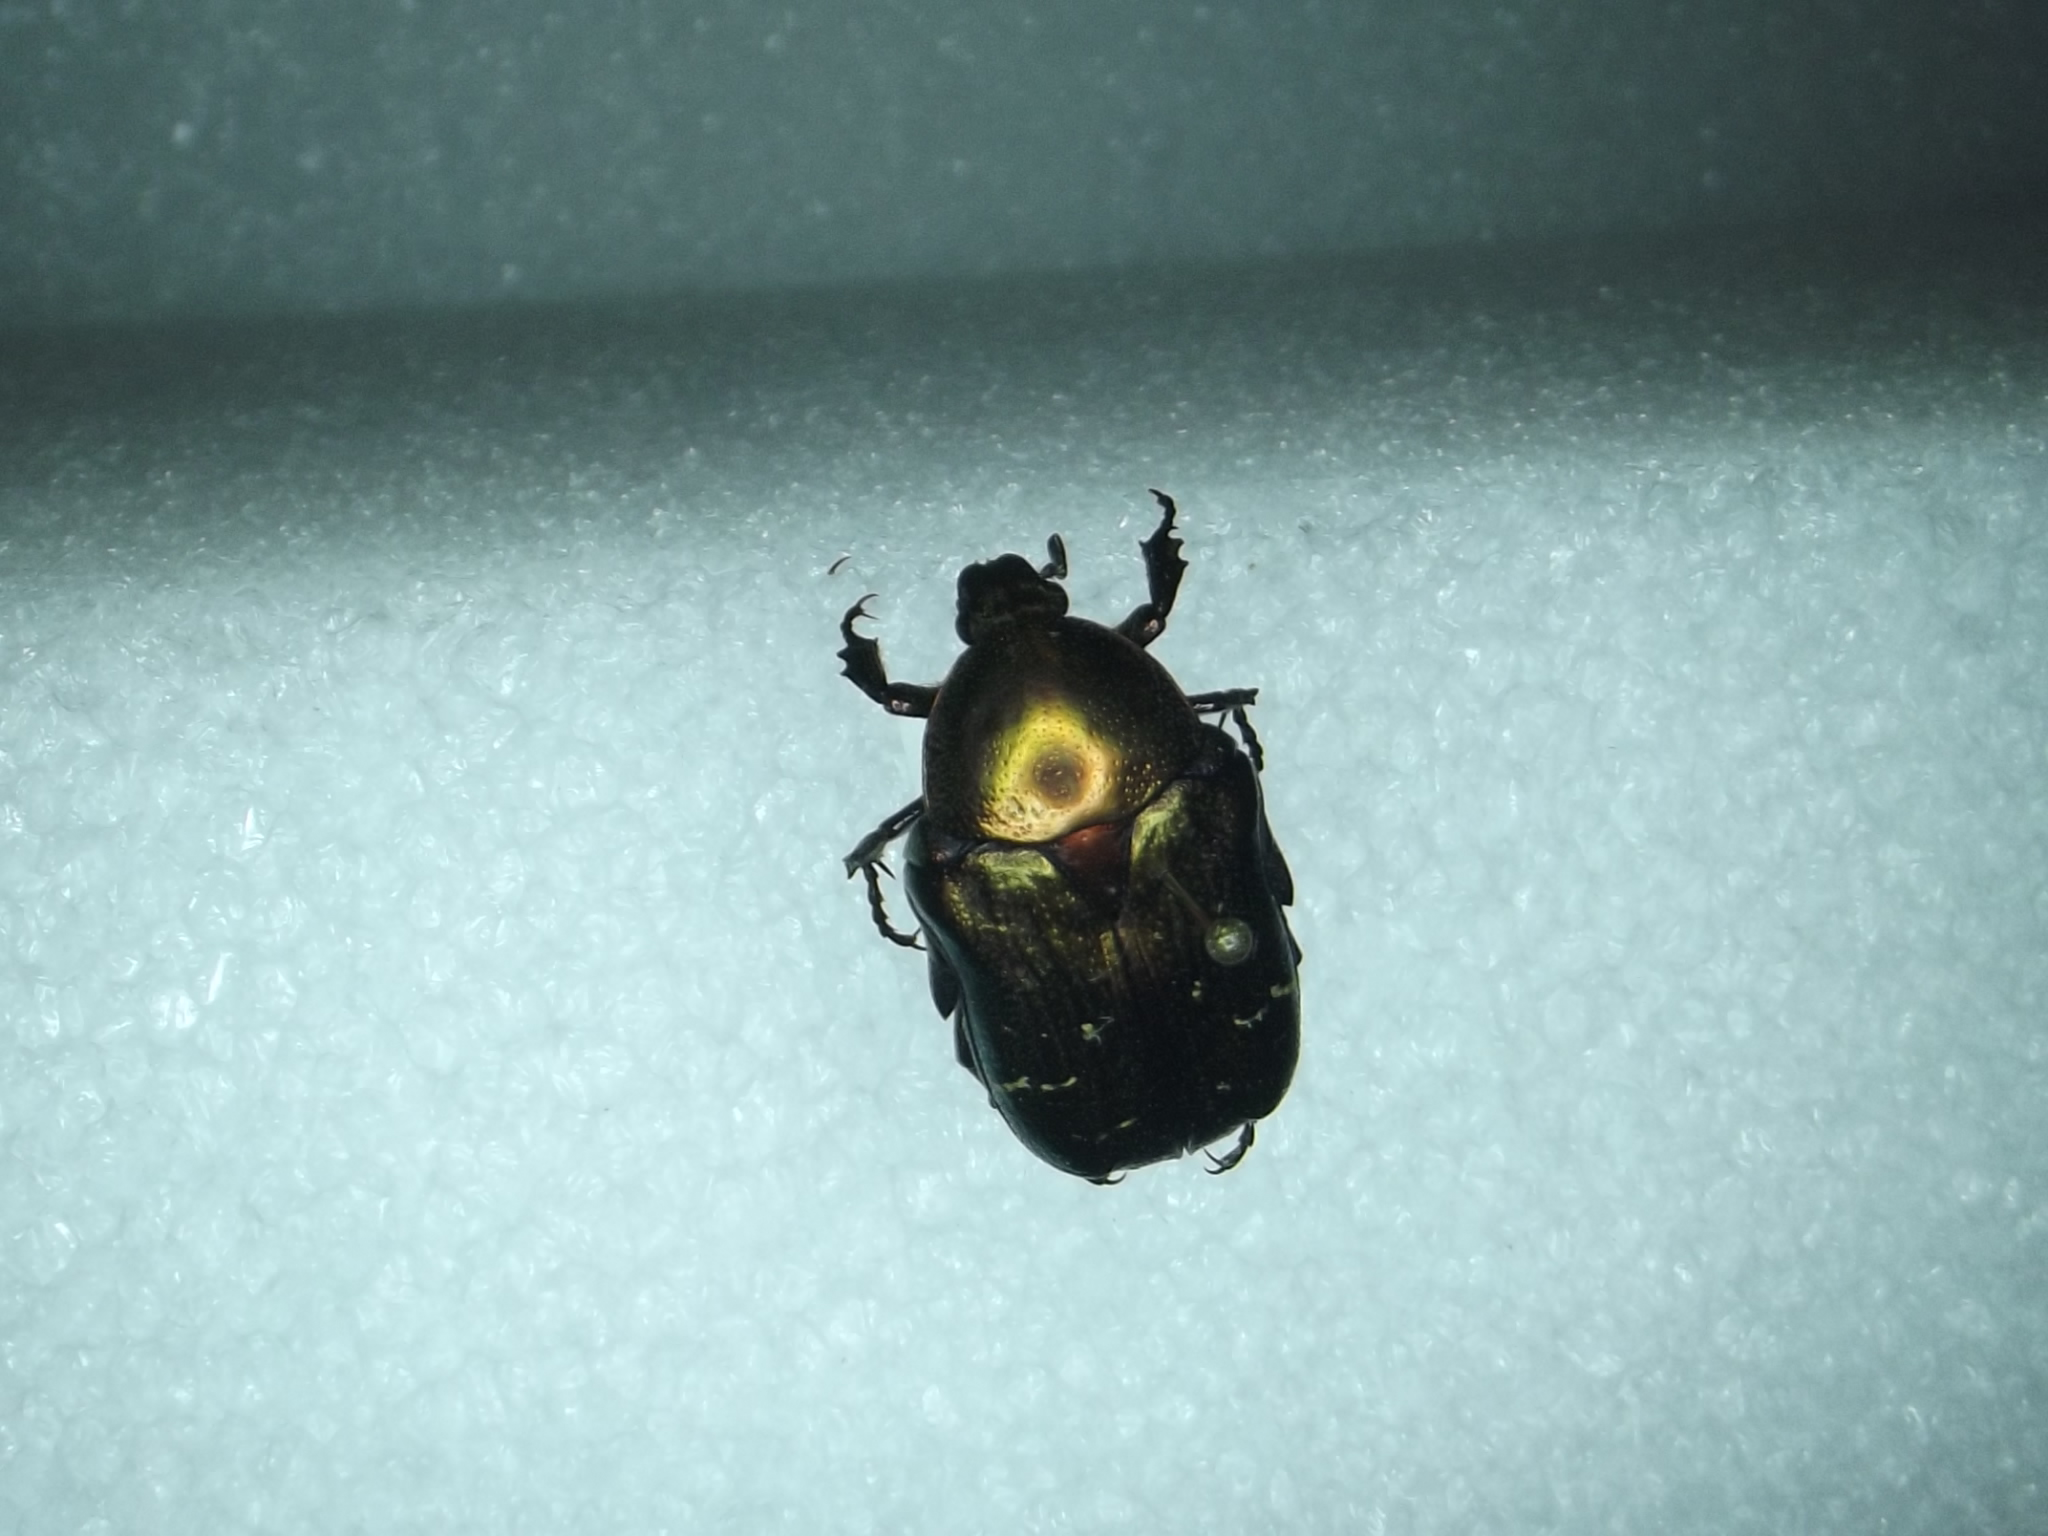Cetonia_kemali: (784, 482, 1329, 1226)
